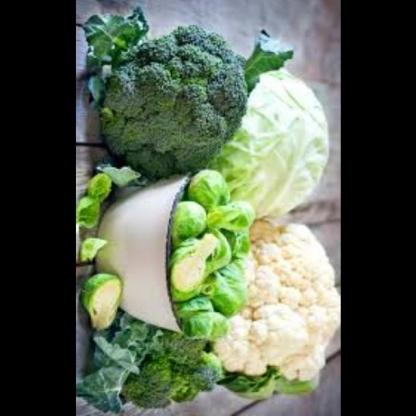broccoli: (100, 21, 250, 177), (113, 321, 222, 416)
brus capusta: (169, 174, 254, 338), (76, 166, 113, 264), (83, 268, 125, 333)
cabbage: (209, 59, 340, 213)
cayliflower: (208, 208, 341, 388)
